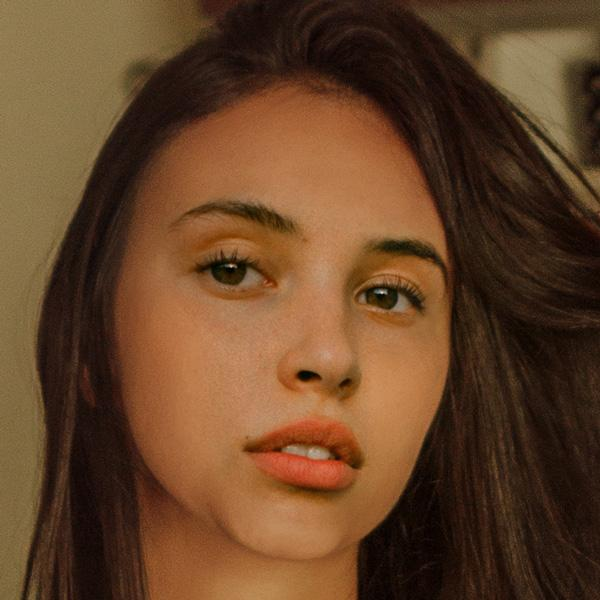Eyes: (185, 235, 284, 309), (341, 259, 433, 329)
